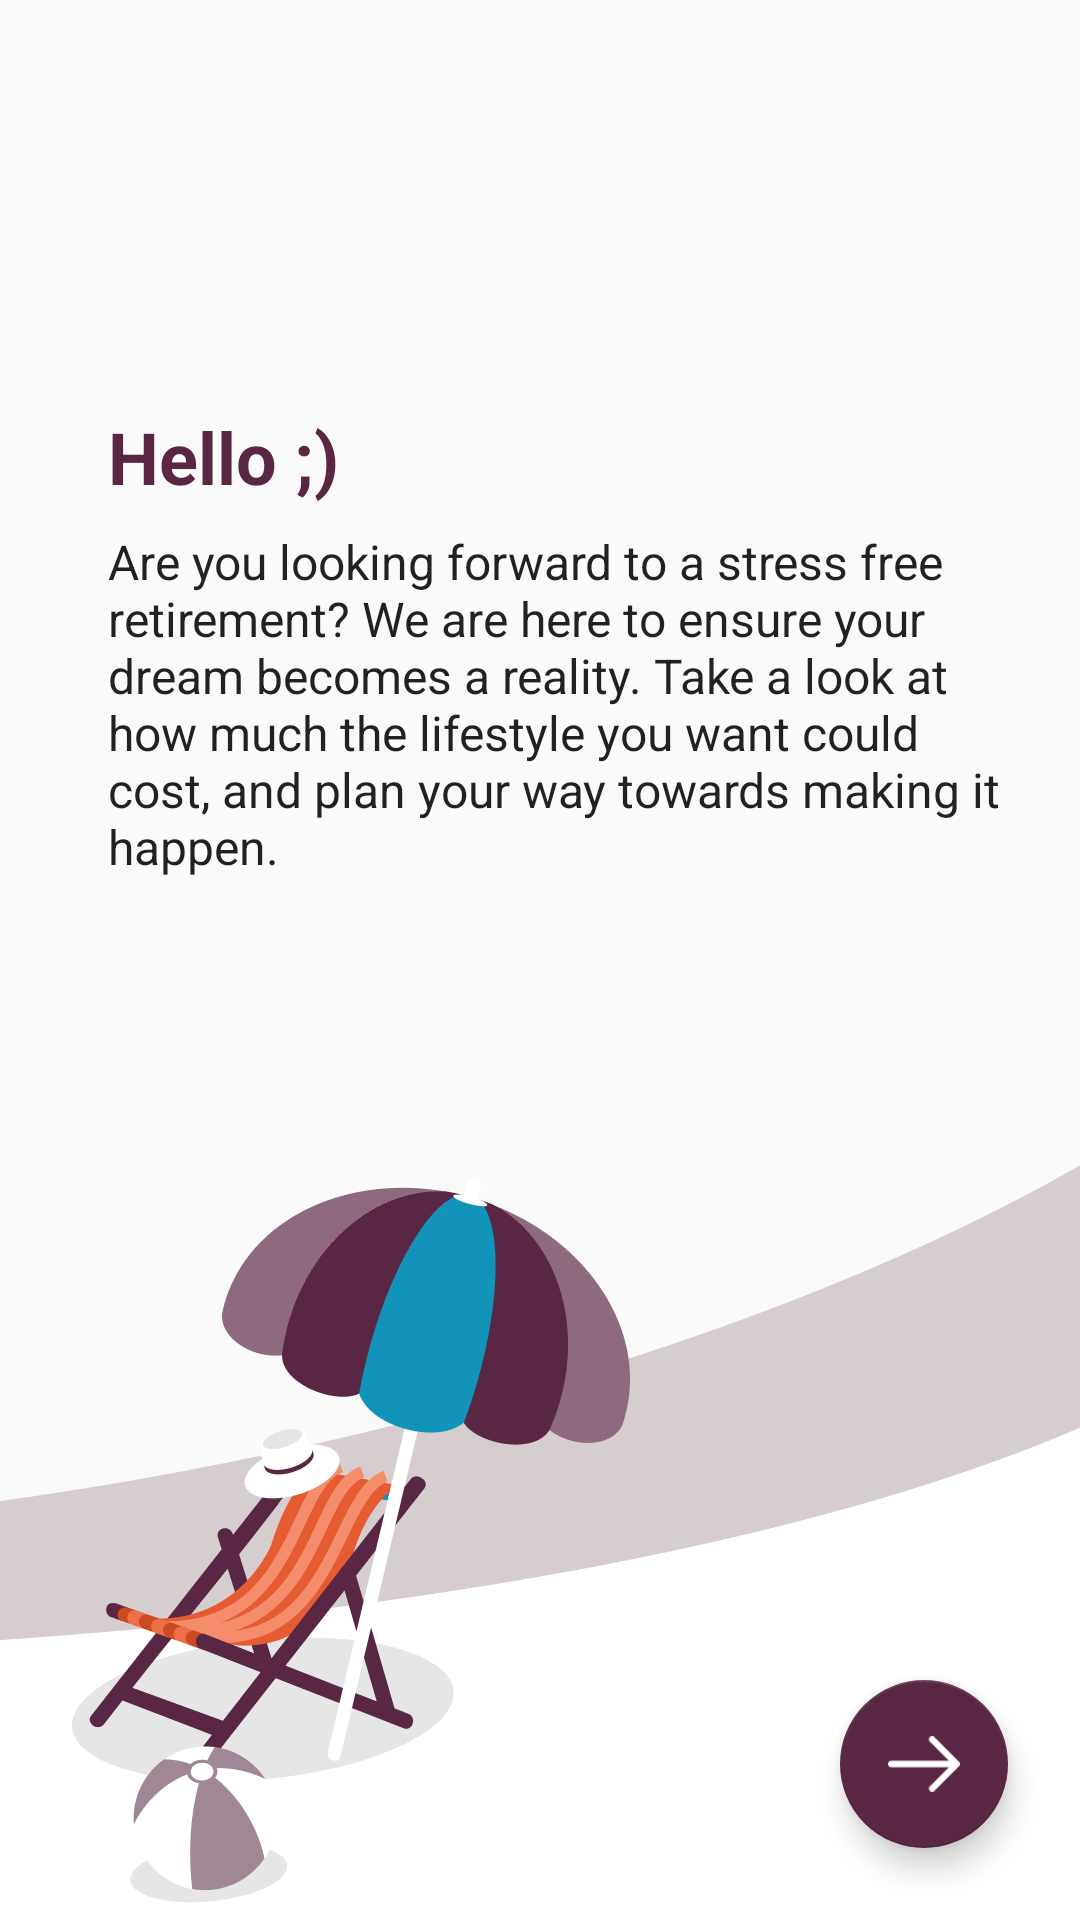

Named icons in this screenshot (1080 x 1920) and their centers, (x,y):
arrow right: (924,1764)
